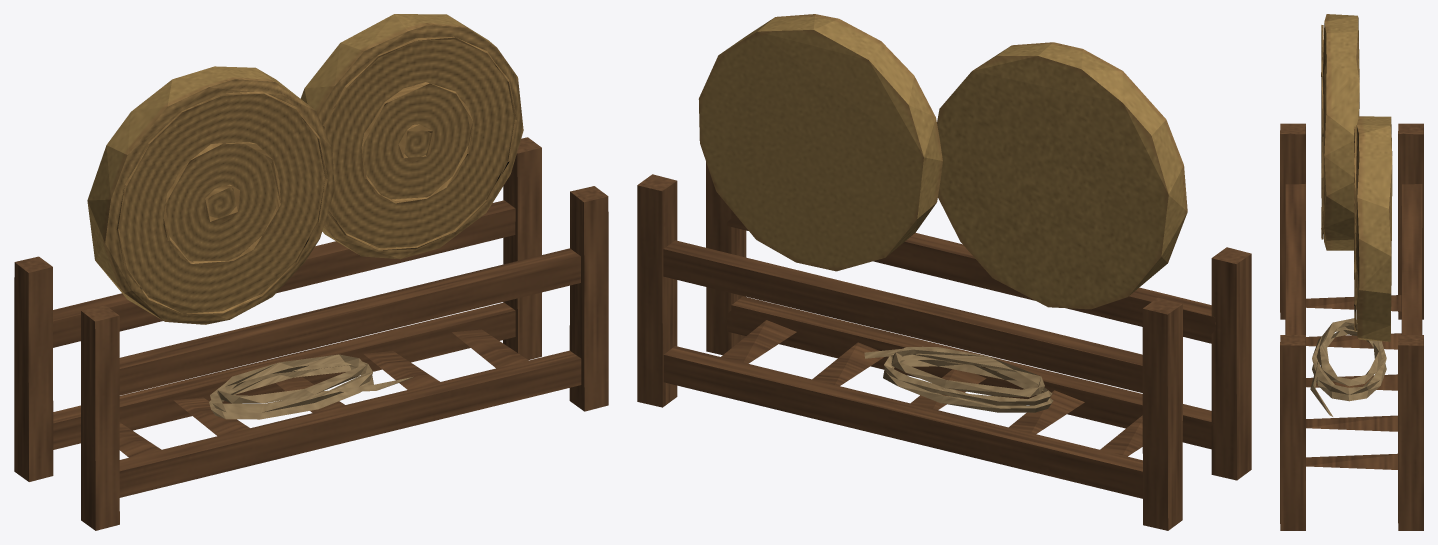
Rendered from TrialSpareTargets_LOD2.fbx.
3 views of the same model, side by side, from view 1: azimuth 30°, elevation 25°; view 2: azimuth 150°, elevation 25°; view 3: azimuth 270°, elevation 25° (orthographic). The views are drawn at different scales.
Parts seen in each view (by area): view 1: TrialSpareTargets.001; view 2: TrialSpareTargets.001; view 3: TrialSpareTargets.001.
Boxes of the visible parts, x1=… form: TrialSpareTargets.001: x1=14, y1=14, x2=608, y2=530; TrialSpareTargets.001: x1=637, y1=14, x2=1251, y2=530; TrialSpareTargets.001: x1=1280, y1=14, x2=1423, y2=530.
Bounding box in the file's own units: 1.57 × 1.15 × 0.429.
1 material, 1 textured.
